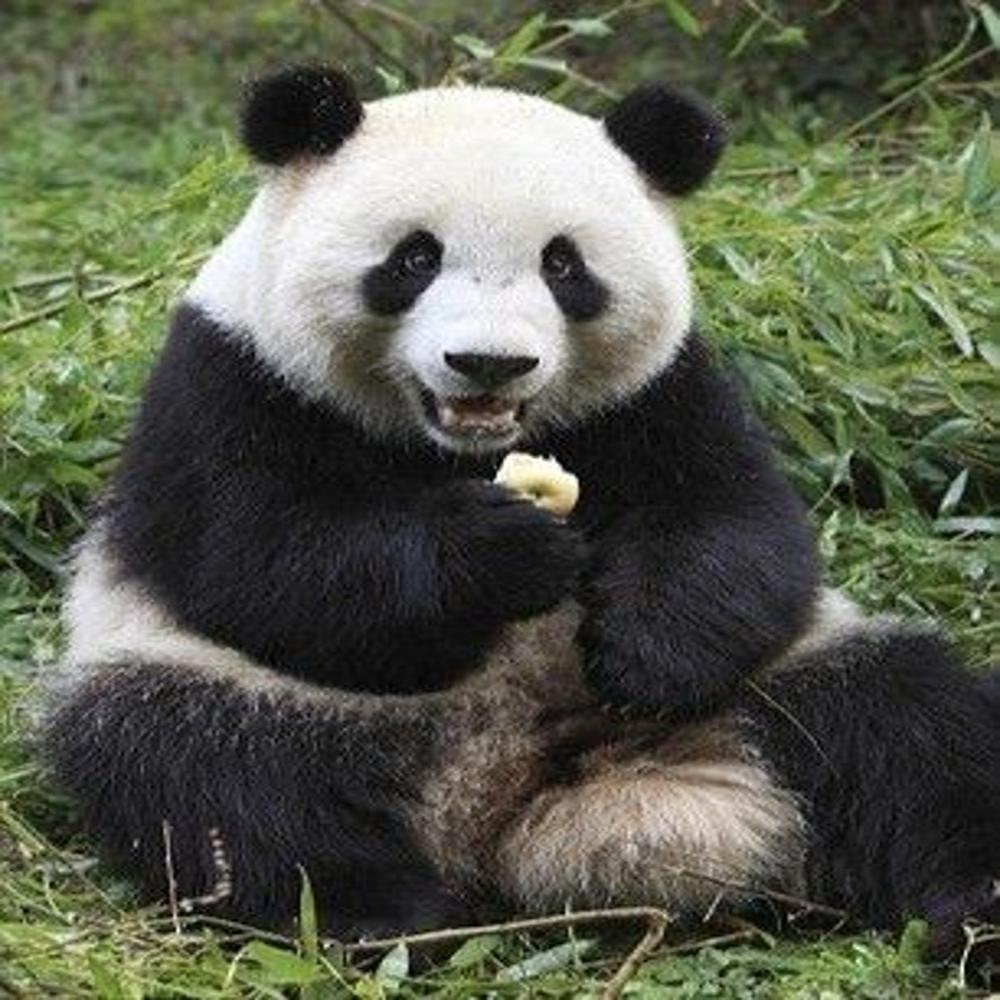panda: (46, 54, 1000, 948)
